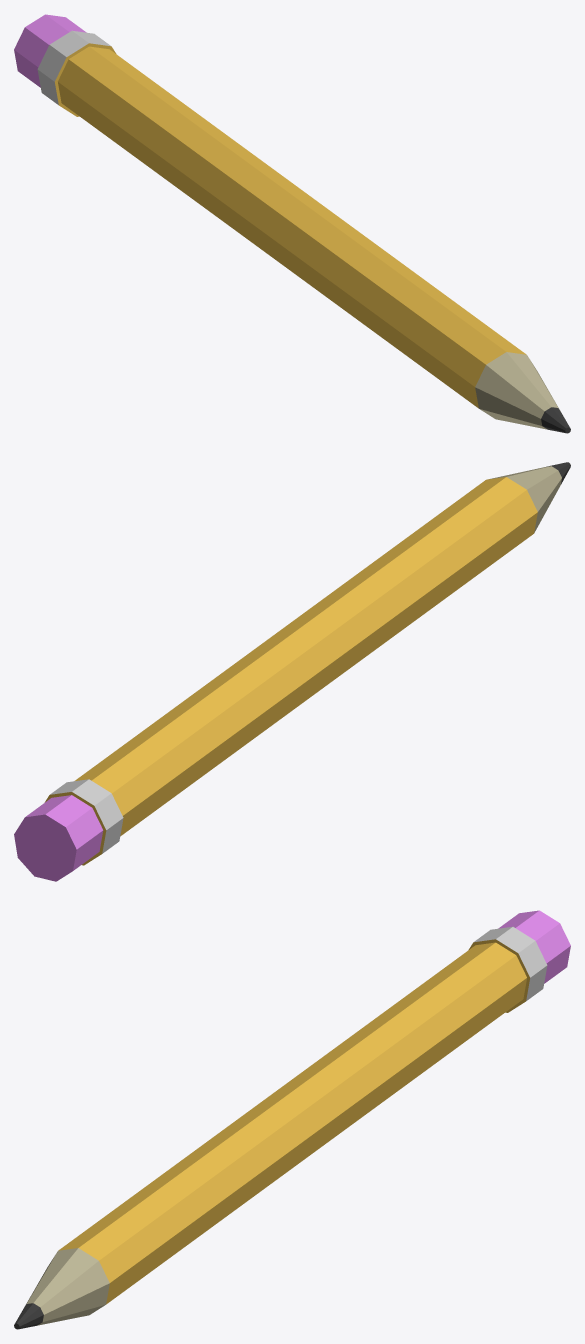
File: pencil.fbx
The picture shows the model from 3 angles, top to bottom: view 1: azimuth 30°, elevation 25°; view 2: azimuth 150°, elevation 25°; view 3: azimuth 330°, elevation 25°; orthographic projection.
Visible parts, largest first — view 1: pencil_export; view 2: pencil_export; view 3: pencil_export.
Part boxes in pixels (<box>): pencil_export: <box>14,14,570,433</box>; pencil_export: <box>14,462,570,881</box>; pencil_export: <box>14,910,570,1329</box>.
Size of the model in its own units: 2.12 by 2.09 by 27.89.
